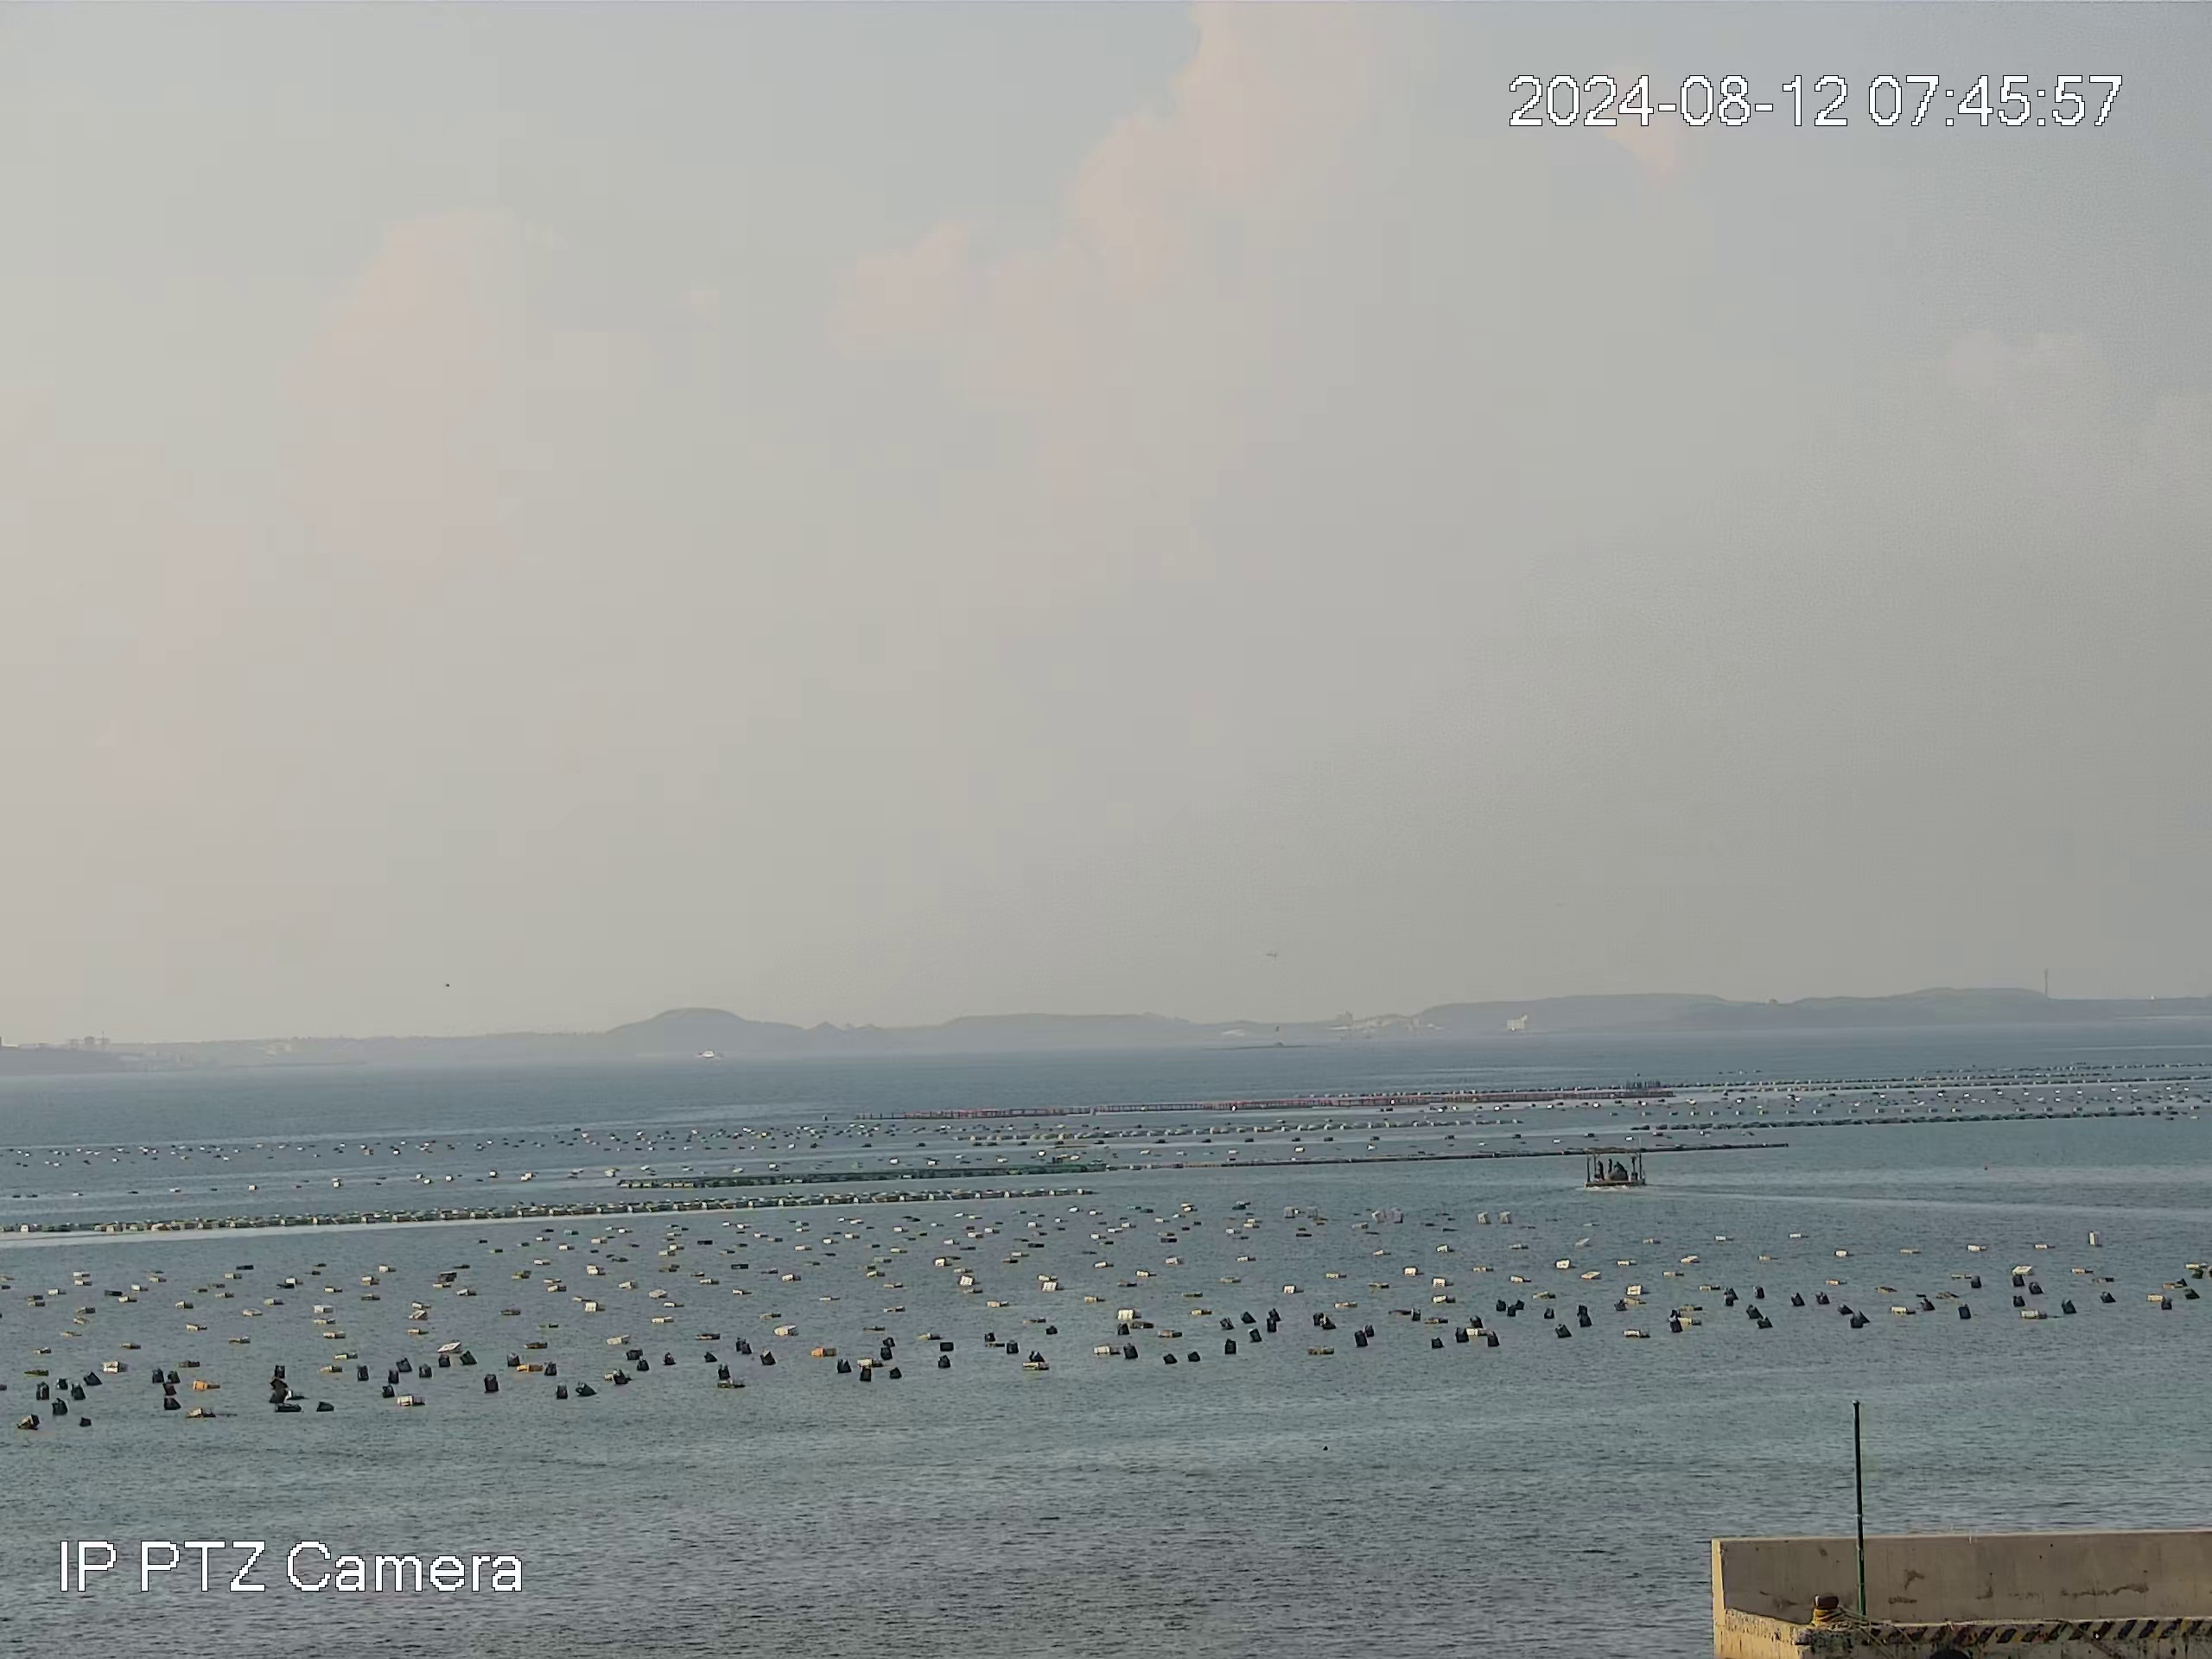boat: (1582, 1147, 1649, 1187)
